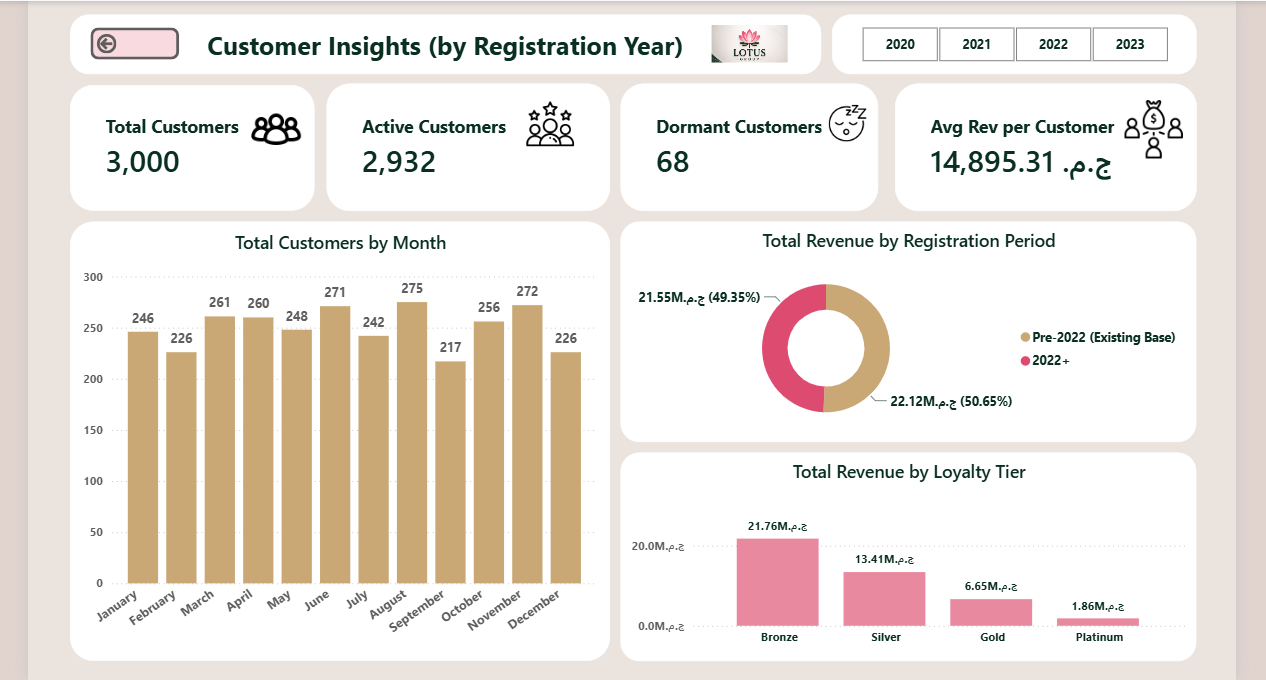

The page's visual inventory and layout, read from the dashboard file:
{"tool":"powerbi","page":{"name":"Customer Insights","canvas":[1280,720],"ordinal":2},"visuals":[{"type":"cardVisual","fields":{"Data":["_Measures.Dormant Customers"]},"box":[628.3,87.5,273.6,135.2],"z":0},{"type":"cardVisual","fields":{"Data":["_Measures.Total Customers"]},"box":[316.5,87.5,300.6,135.2],"z":1000},{"type":"cardVisual","fields":{"Data":["_Measures.Average Revenue per Customer"]},"box":[919.4,87.5,319.7,135.2],"z":2000},{"type":"donutChart","fields":{"Category":["dim_customers.Registration Period"],"Y":["_Measures.Total Revenue"]},"box":[628.3,233.8,610.8,233.8],"z":3000},{"type":"cardVisual","fields":{"Data":["_Measures.Total Existing Customers"]},"box":[44.5,89.1,259.3,133.6],"z":4000},{"type":"clusteredColumnChart","fields":{"Category":["dim_customers.registration_date Hierarchy.Month"],"Y":["_Measures.Total Customers"]},"box":[44.5,233.8,572.6,466],"z":5000},{"type":"slicer","title":"Registration Year","fields":{"Values":["dim_customers.registration_date Hierarchy.Year"]},"box":[852.6,14.3,386.5,63.6],"z":6000},{"type":"clusteredColumnChart","title":"Total Revenue by Loyalty Tier","fields":{"Category":["dim_customers.loyalty_tier"],"Y":["_Measures.Total Revenue"]},"box":[628.3,478.8,610.8,221.1],"z":7000},{"type":"shape","box":[44.5,14.3,796.9,63.6],"z":8000},{"type":"actionButton","box":[63.6,25.4,100,40],"z":9000},{"type":"image","box":[1162.7,105,62,62],"z":10000},{"type":"image","box":[841.4,105,49.3,50.9],"z":11000},{"type":"image","box":[233.8,105,58.9,62],"z":12000},{"type":"image","box":[521.7,105,63.6,50.9],"z":13000},{"type":"image","box":[706.2,25.4,117.7,39.8],"z":14000}]}

Visuals, with their boxes on the page's 1280x720 design canvas (x1, y1, x2, y2). These are canvas units, not pixel positions in the 1266x680 screenshot, which may show the page scaled, cropped or inside an application window:
cardVisual - _Measures.Dormant Customers: {"x1": 628, "y1": 88, "x2": 902, "y2": 223}
cardVisual - _Measures.Total Customers: {"x1": 316, "y1": 88, "x2": 617, "y2": 223}
cardVisual - _Measures.Average Revenue per Customer: {"x1": 919, "y1": 88, "x2": 1239, "y2": 223}
donutChart - dim_customers.Registration Period x _Measures.Total Revenue: {"x1": 628, "y1": 234, "x2": 1239, "y2": 468}
cardVisual - _Measures.Total Existing Customers: {"x1": 44, "y1": 89, "x2": 304, "y2": 223}
clusteredColumnChart - dim_customers.registration_date Hierarchy.Month x _Measures.Total Customers: {"x1": 44, "y1": 234, "x2": 617, "y2": 700}
"Registration Year" slicer: {"x1": 853, "y1": 14, "x2": 1239, "y2": 78}
"Total Revenue by Loyalty Tier" clusteredColumnChart: {"x1": 628, "y1": 479, "x2": 1239, "y2": 700}
shape: {"x1": 44, "y1": 14, "x2": 841, "y2": 78}
actionButton: {"x1": 64, "y1": 25, "x2": 164, "y2": 65}
image: {"x1": 1163, "y1": 105, "x2": 1225, "y2": 167}
image: {"x1": 841, "y1": 105, "x2": 891, "y2": 156}
image: {"x1": 234, "y1": 105, "x2": 293, "y2": 167}
image: {"x1": 522, "y1": 105, "x2": 585, "y2": 156}
image: {"x1": 706, "y1": 25, "x2": 824, "y2": 65}
